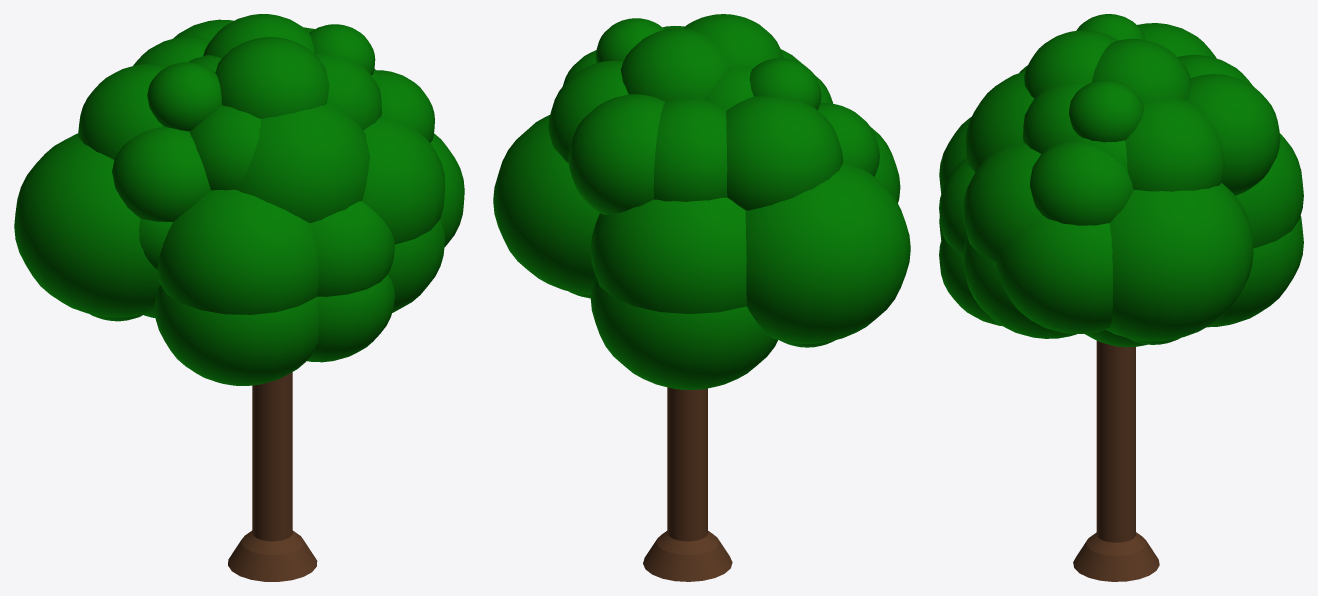
The model's file is arbolredondo.fbx.
3 renders of one model, left to right at view 1: azimuth 30°, elevation 25°; view 2: azimuth 150°, elevation 25°; view 3: azimuth 270°, elevation 25°, orthographic. The views are drawn at different scales.
Parts seen in each view (by area): view 1: Grande4; view 2: Grande4; view 3: Grande4.
Boxes of the visible parts, x1,y1,x2,y2 form: Grande4: [14, 14, 464, 581]; Grande4: [493, 14, 910, 581]; Grande4: [939, 14, 1303, 581].
Bounding box in the file's own units: 4996 × 6592 × 4208.
